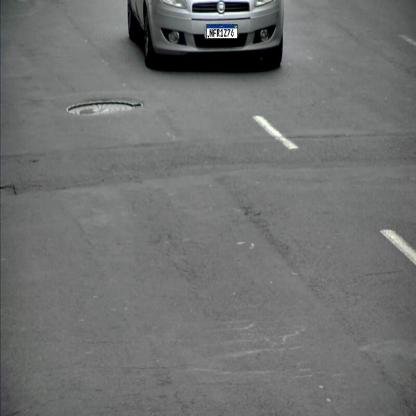PlacaM: (206, 24, 238, 39)
